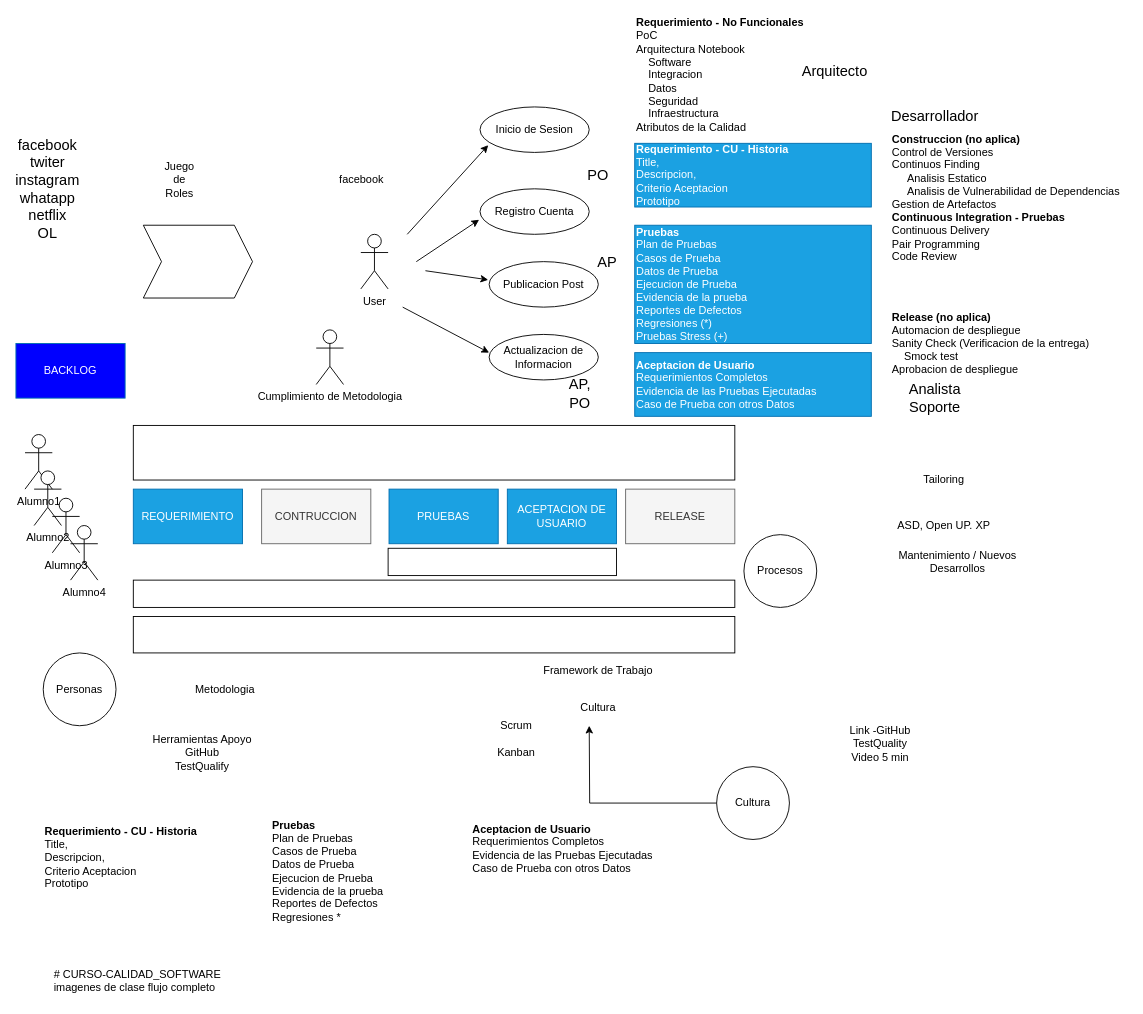
Some shapes in this 1143 by 1014 pixel diagram are drawn without their labels. The shapes that lost their labels are listed below. From the top down, each one's box as (x1, y1, x2, y2) in pixels, then its label:
(142, 224, 253, 298): SOFTWARE CONOCIDO
(132, 425, 735, 480): DESARROLLO DE SOFTWARE (Metologia)
(387, 547, 617, 576): CONTROL DE LA CALIDAD DE SW
(132, 579, 735, 607): ASEGURAMIENTO DE LA CALIDAD DE SOFTWARE
(132, 616, 735, 653): CALIDAD DE SOFTWARE
